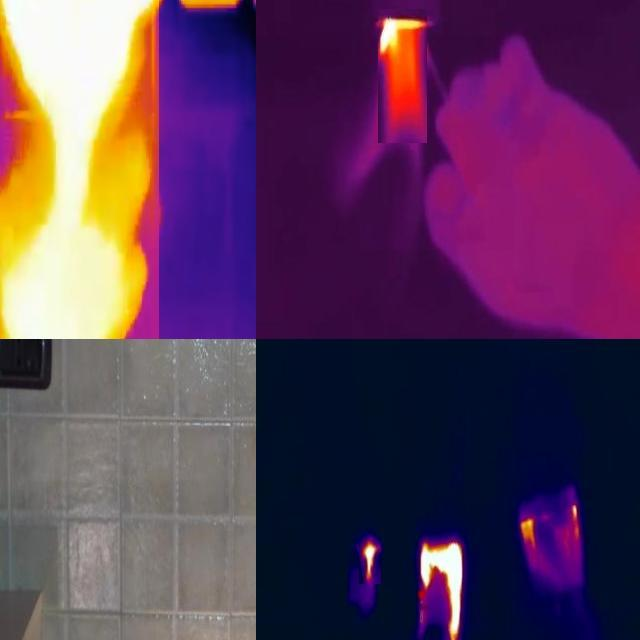fire: (1, 1, 160, 340), (379, 10, 428, 144), (419, 540, 465, 640), (360, 541, 382, 585), (519, 514, 541, 554), (572, 500, 581, 522)
